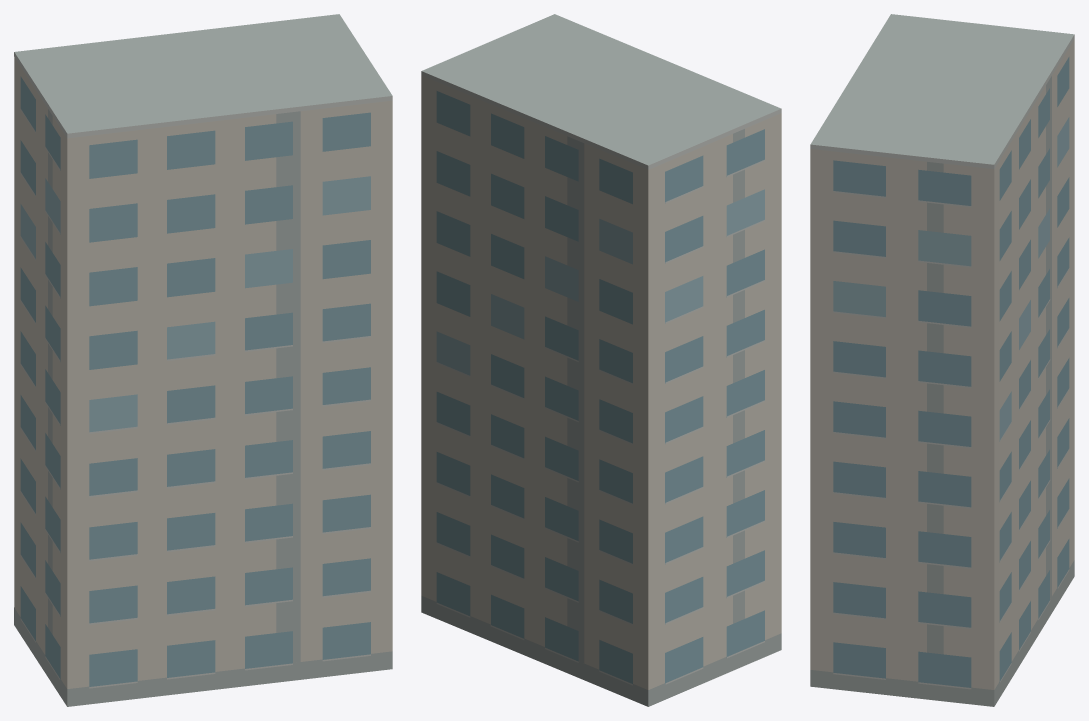
File: residential-afc07a61-29e4-447f-abed-f76810ac2e19.glb
3 renders of one model, left to right at view 1: azimuth 30°, elevation 25°; view 2: azimuth 150°, elevation 25°; view 3: azimuth 270°, elevation 25°, orthographic. The views are drawn at different scales.
Parts seen in each view (by area): view 1: residential-afc07a61-29e4-447f-abed-f76810ac2e19.tmp; view 2: residential-afc07a61-29e4-447f-abed-f76810ac2e19.tmp; view 3: residential-afc07a61-29e4-447f-abed-f76810ac2e19.tmp.
Boxes of the visible parts, bbox=[...] form: residential-afc07a61-29e4-447f-abed-f76810ac2e19.tmp: bbox=[14, 14, 392, 706]; residential-afc07a61-29e4-447f-abed-f76810ac2e19.tmp: bbox=[421, 14, 781, 706]; residential-afc07a61-29e4-447f-abed-f76810ac2e19.tmp: bbox=[810, 14, 1074, 706].
Size of the model in its own units: 17.9 by 30 by 13.26.
